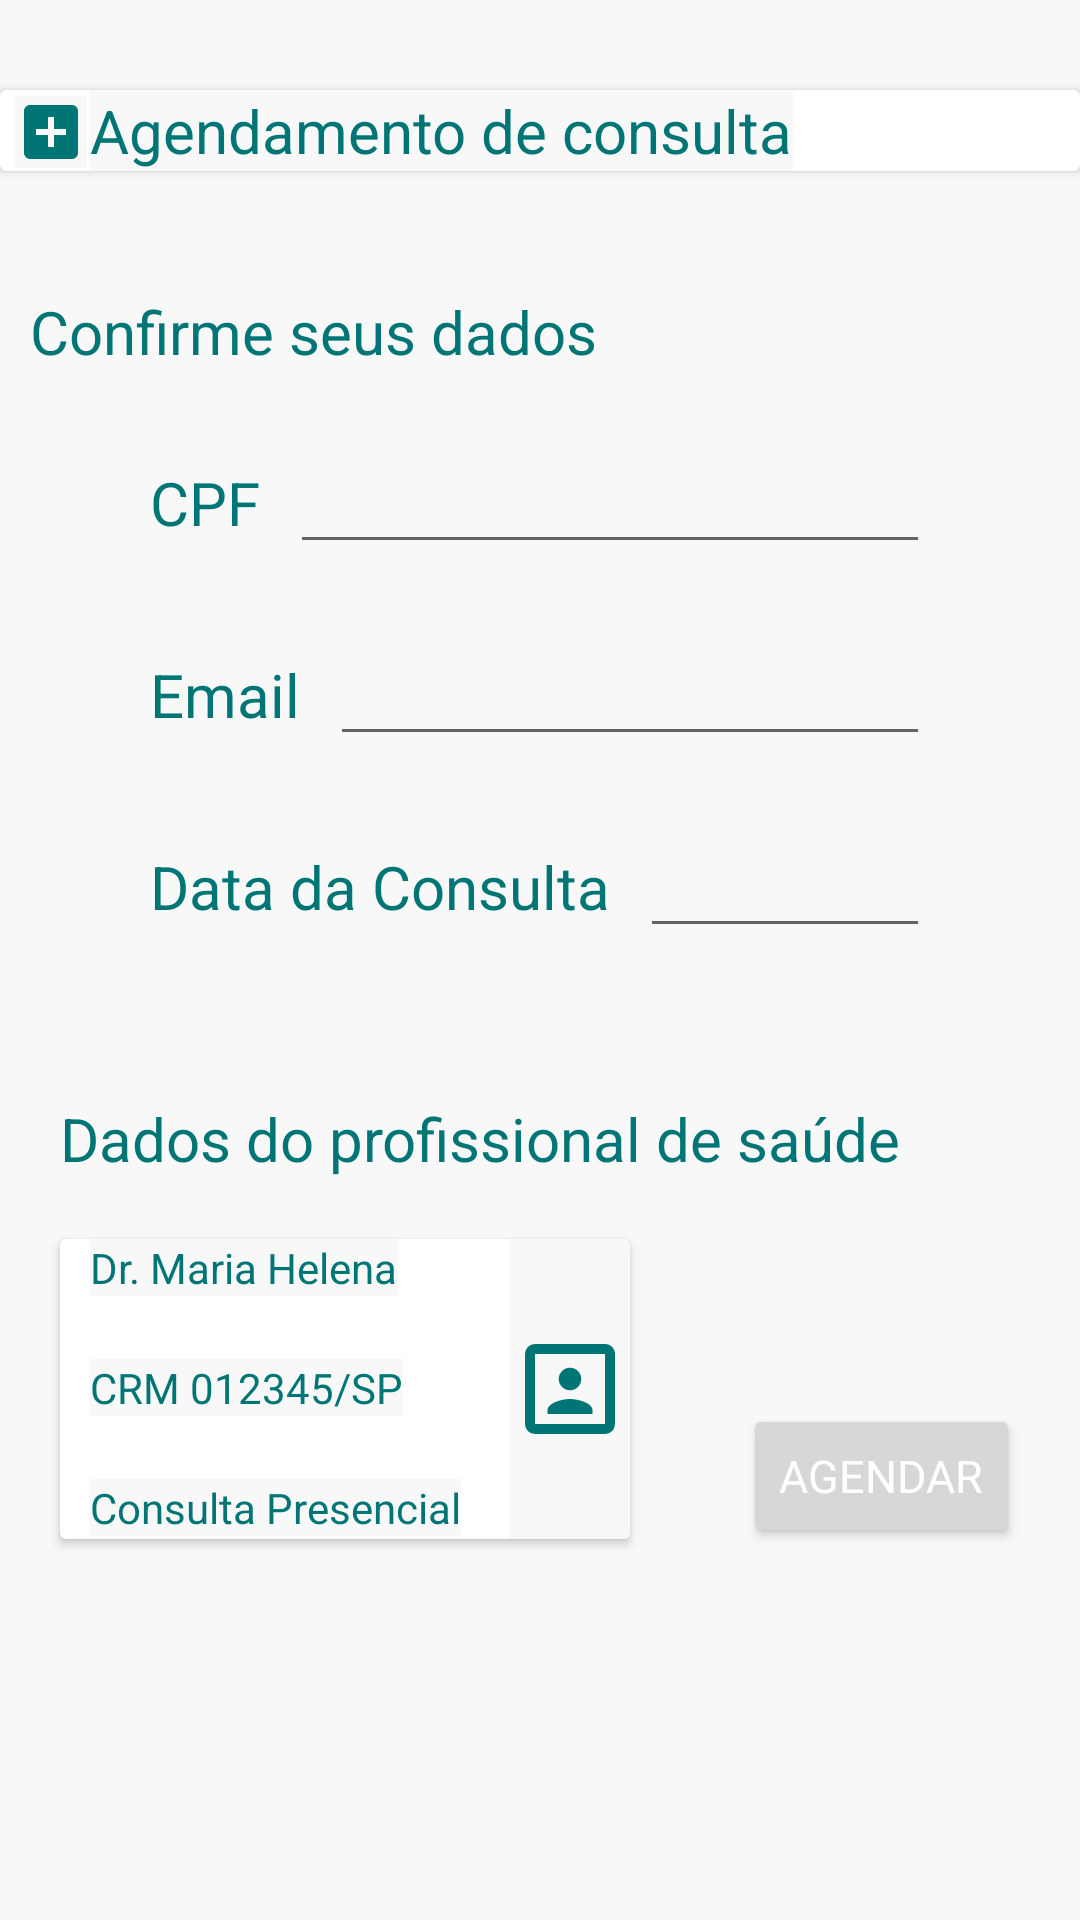

Point at icon controls on the screen. Image size 1080x1920, points as [x,y].
selfie: [570,1389]
